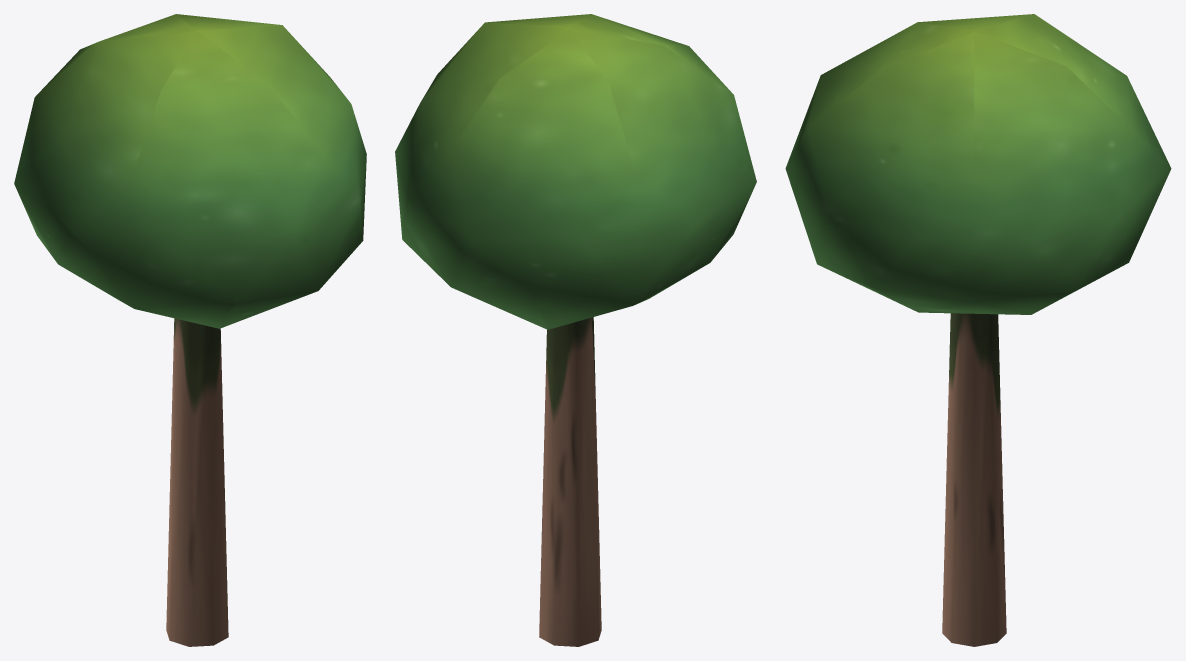
3 views of the same model, side by side, from view 1: azimuth 30°, elevation 25°; view 2: azimuth 150°, elevation 25°; view 3: azimuth 270°, elevation 25° (orthographic).
Visible parts, largest first — view 1: nature_leaf_tree; view 2: nature_leaf_tree; view 3: nature_leaf_tree.
Part boxes in pixels (x1=…): nature_leaf_tree: x1=14, y1=14, x2=366, y2=646; nature_leaf_tree: x1=395, y1=14, x2=756, y2=646; nature_leaf_tree: x1=785, y1=14, x2=1171, y2=646.
Size of the model in its own units: 0.9162 by 1.75 by 1.02.
Materials: 1 (1 with a texture image).
